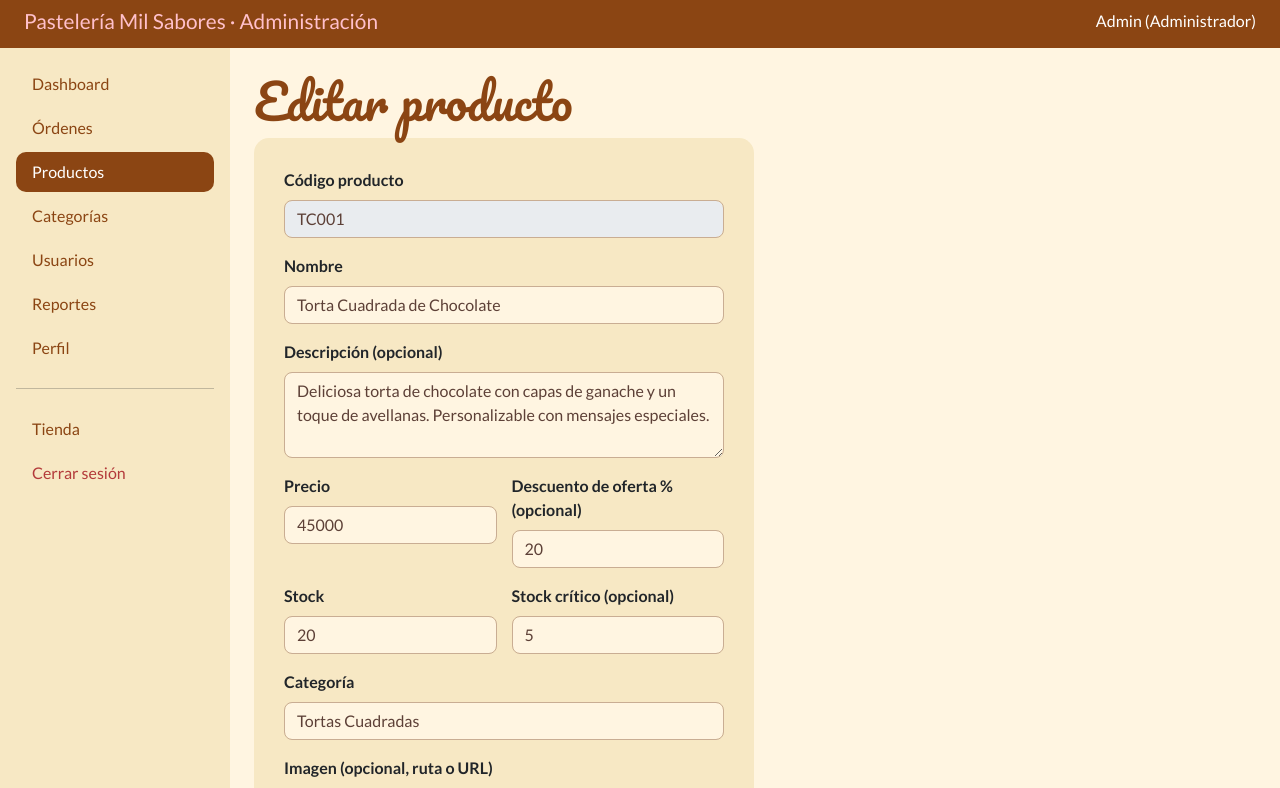
Test: Admin: formulario de producto › carga los datos al editar y bloquea el código
Expected: the field labelled "Código producto" is disabled, [284, 200, 724, 238]
Expected: the field labelled "Nombre" holds "Torta Cuadrada de Chocolate", [284, 286, 724, 324]
Replace the text in the number field labelled "Precio" with "47000" at (390, 525), box [284, 506, 496, 544]
(page scrolled)
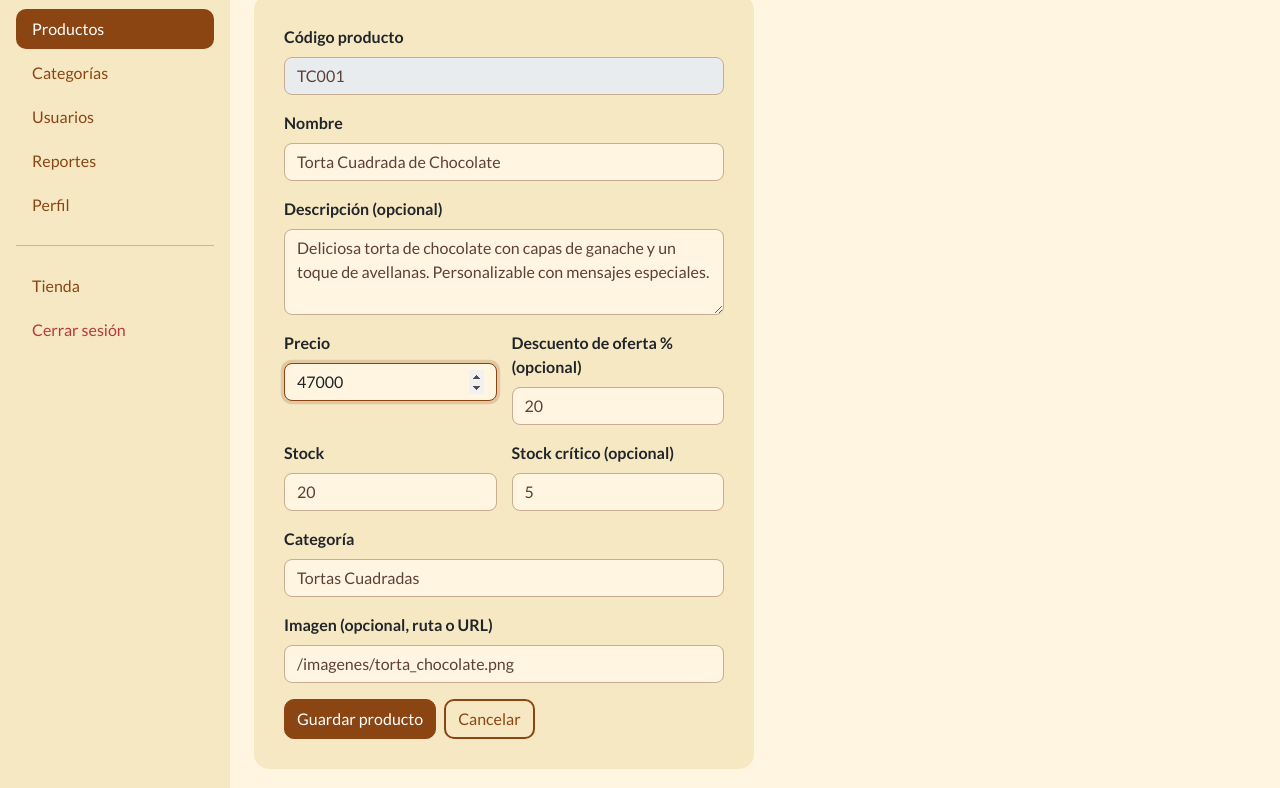
Click the button "Guardar producto".
click(360, 719)  # box [284, 699, 436, 739]
(page scrolled)
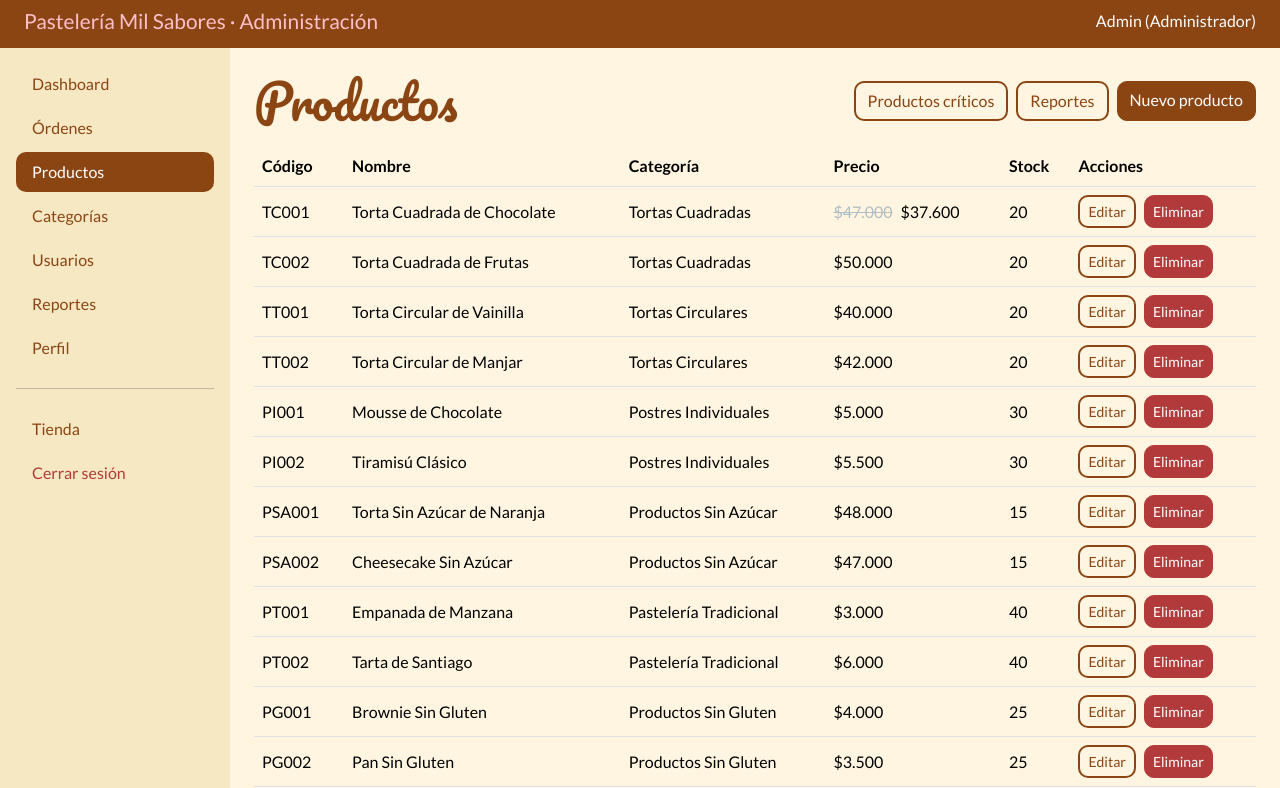
Expected: the heading "Productos" is shown, [254, 72, 457, 130]
